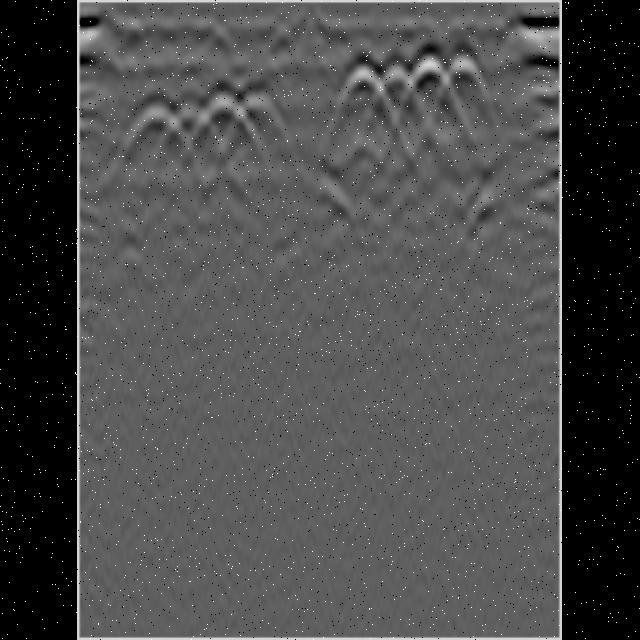hyperbola: (404, 50, 464, 109), (224, 92, 288, 146), (164, 102, 218, 158), (442, 51, 494, 107), (197, 90, 247, 144), (133, 101, 181, 157), (338, 60, 387, 111), (376, 62, 420, 106)
